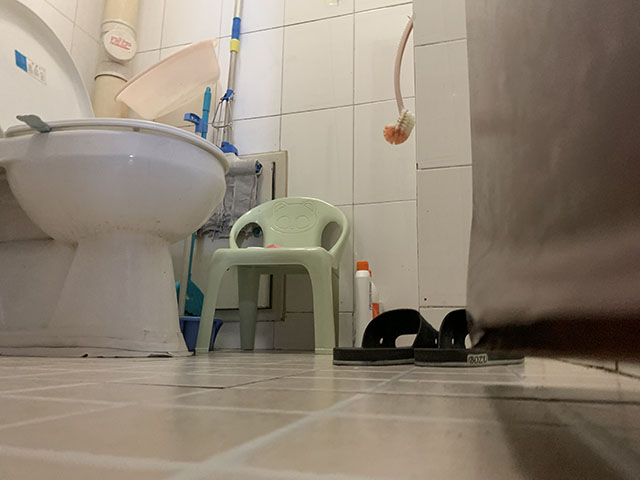closestool: (1, 1, 231, 360)
slippers: (332, 303, 436, 368)
stool: (193, 195, 351, 355)
